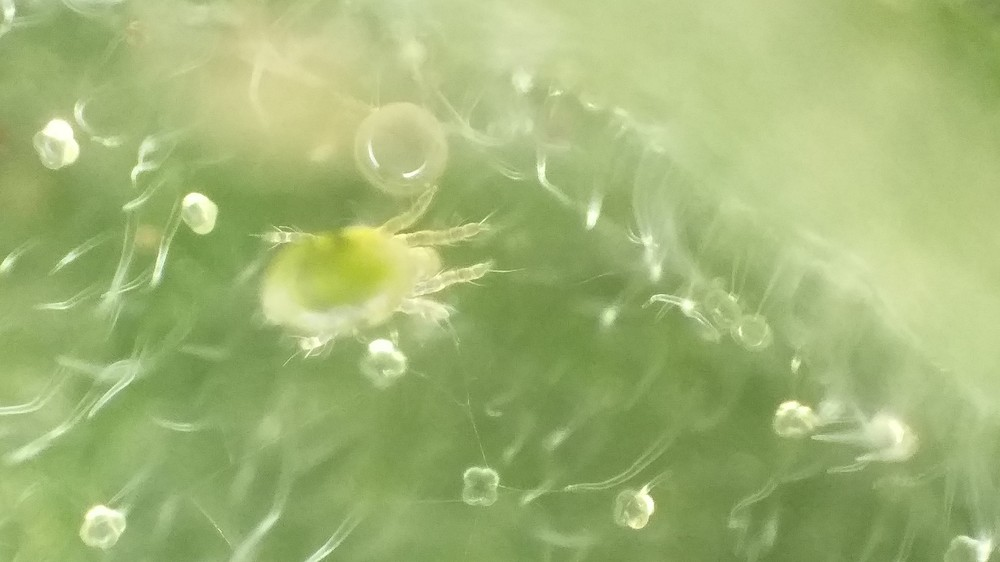Aracnido Rojo: (245, 189, 502, 361)
